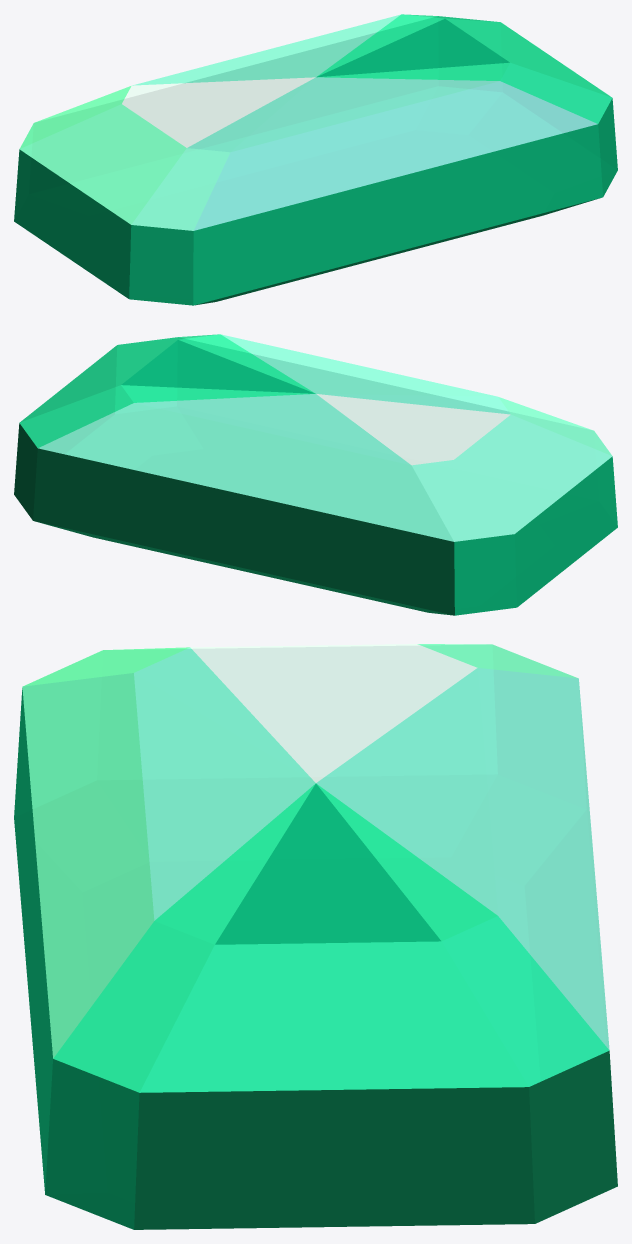
File: Emerald.glb
3 renders of one model, top to bottom at view 1: azimuth 30°, elevation 25°; view 2: azimuth 150°, elevation 25°; view 3: azimuth 270°, elevation 25°, orthographic. The views are drawn at different scales.
Visible parts, largest first — view 1: Emerald_Clean_Cut; view 2: Emerald_Clean_Cut; view 3: Emerald_Clean_Cut.
Boxes of the visible parts, x1=… form: Emerald_Clean_Cut: x1=14, y1=14, x2=617, y2=305; Emerald_Clean_Cut: x1=14, y1=334, x2=617, y2=615; Emerald_Clean_Cut: x1=14, y1=644, x2=617, y2=1229.
Bounding box in the file's own units: 1.32 × 0.345 × 0.7376.
